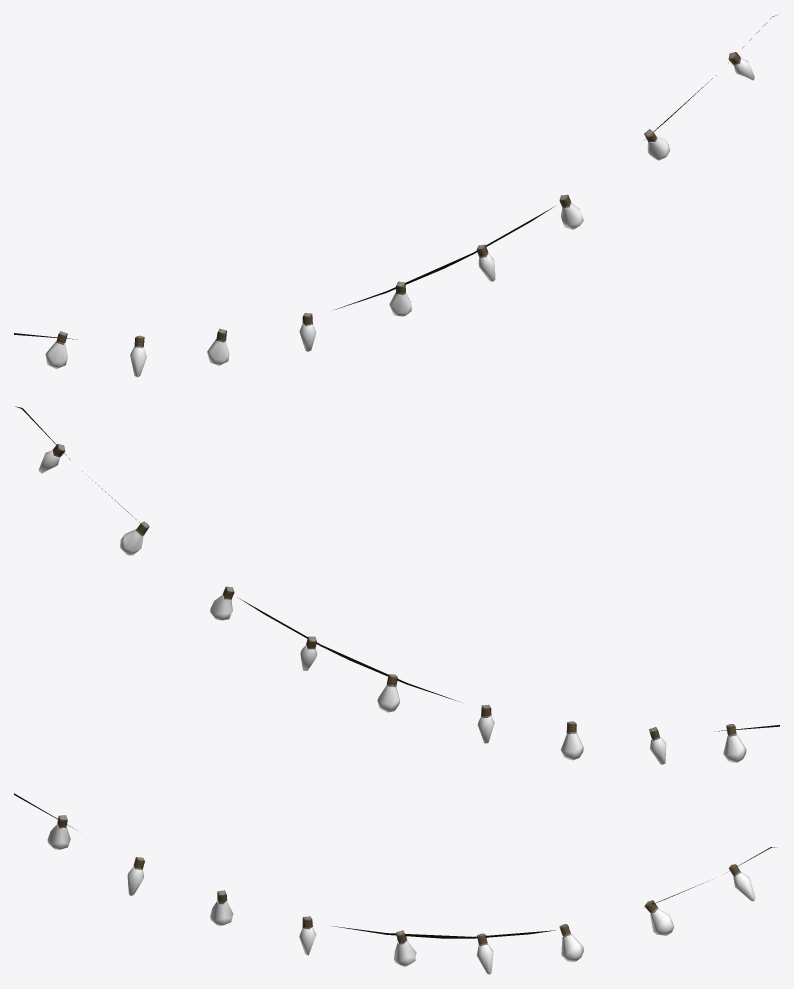
The model's file is string_lights_450_b.glb.
3 views of the same model, one above another, from view 1: azimuth 30°, elevation 25°; view 2: azimuth 150°, elevation 25°; view 3: azimuth 330°, elevation 25° (orthographic).
Visible parts, largest first — view 1: string_lights_450_b; view 2: string_lights_450_b; view 3: string_lights_450_b.
Boxes of the visible parts, x1,y1,x2,y2 form: string_lights_450_b: (14, 15, 776, 377); string_lights_450_b: (15, 406, 779, 764); string_lights_450_b: (14, 793, 777, 974).
Bounding box in the file's own units: 4.5 × 1.25 × 0.1437.
1 material, 1 textured.
